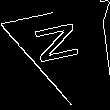N_E: (34, 20, 90, 70)
